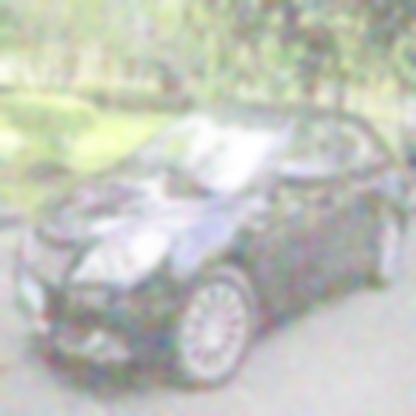Vehicle: (12, 96, 412, 392)
